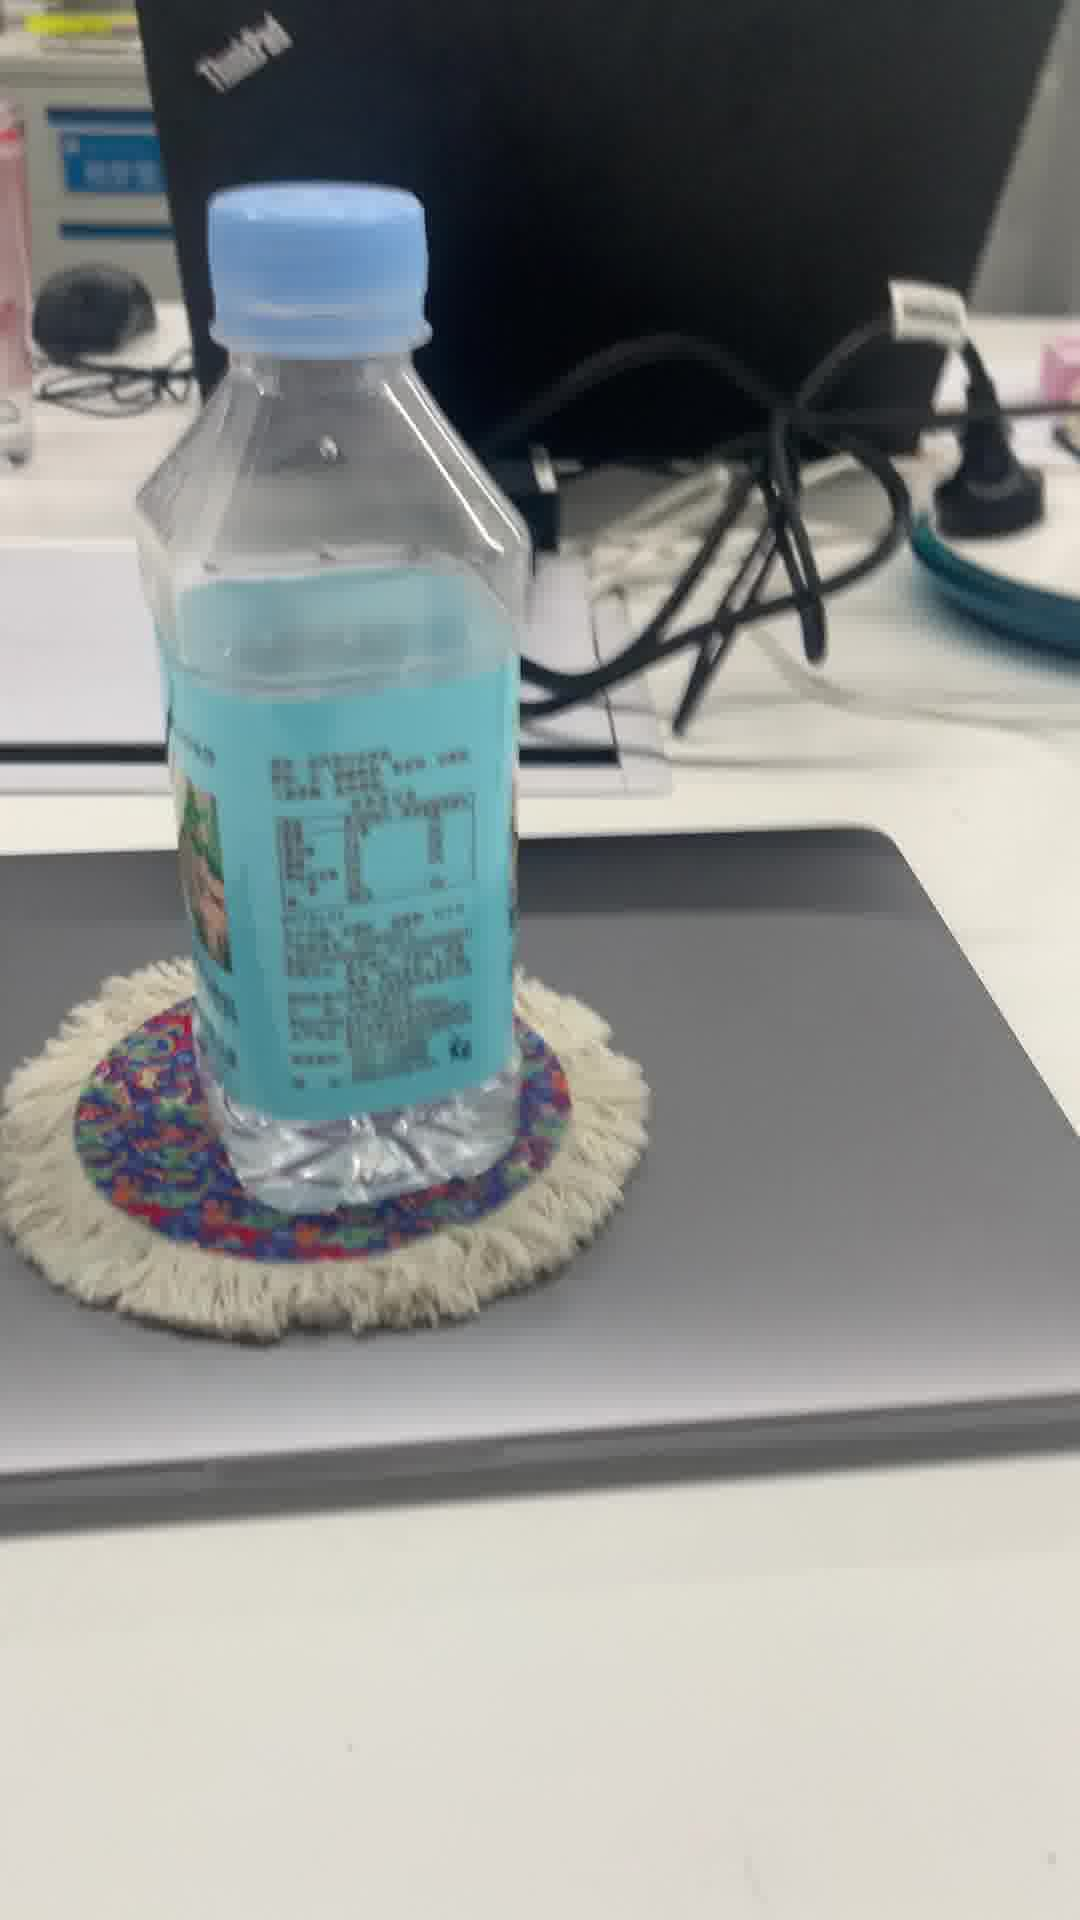水瓶: (132, 175, 551, 1218)
